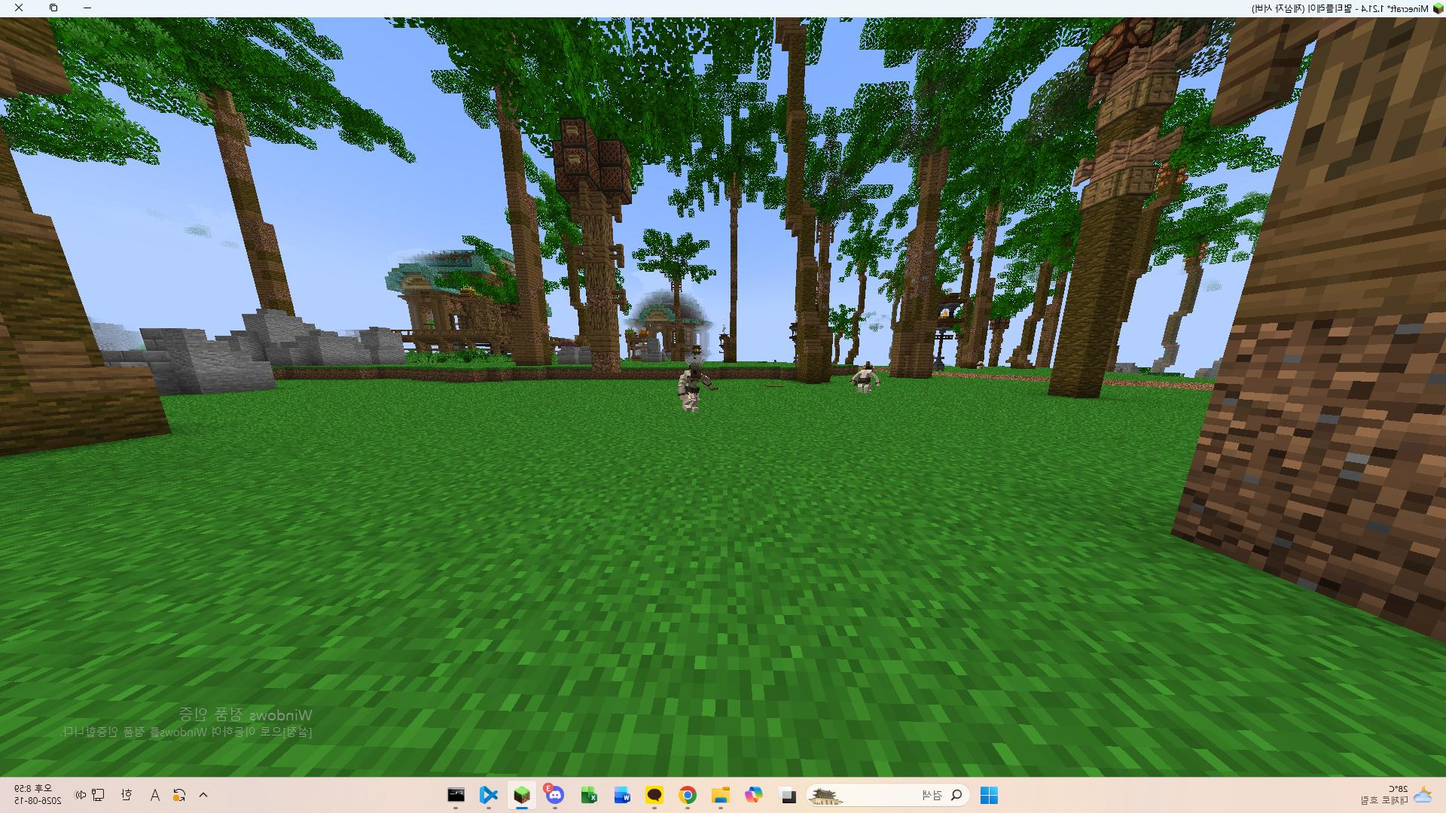bow_indian: (666, 354, 719, 414)
